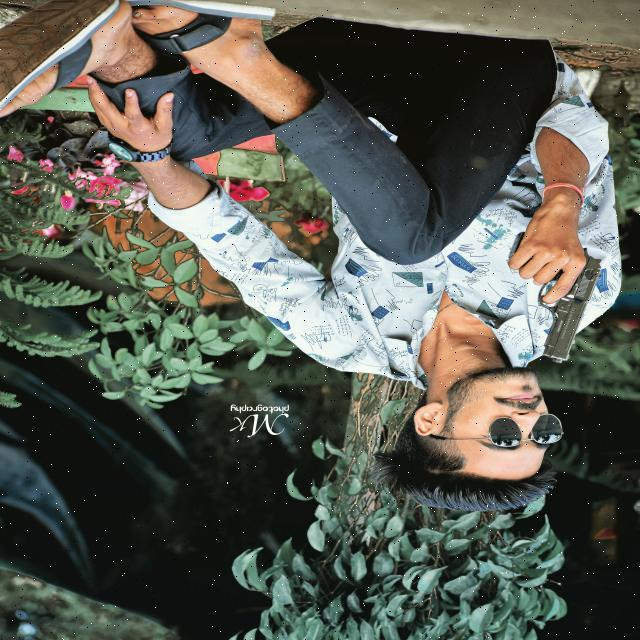gun: (498, 225, 610, 372)
